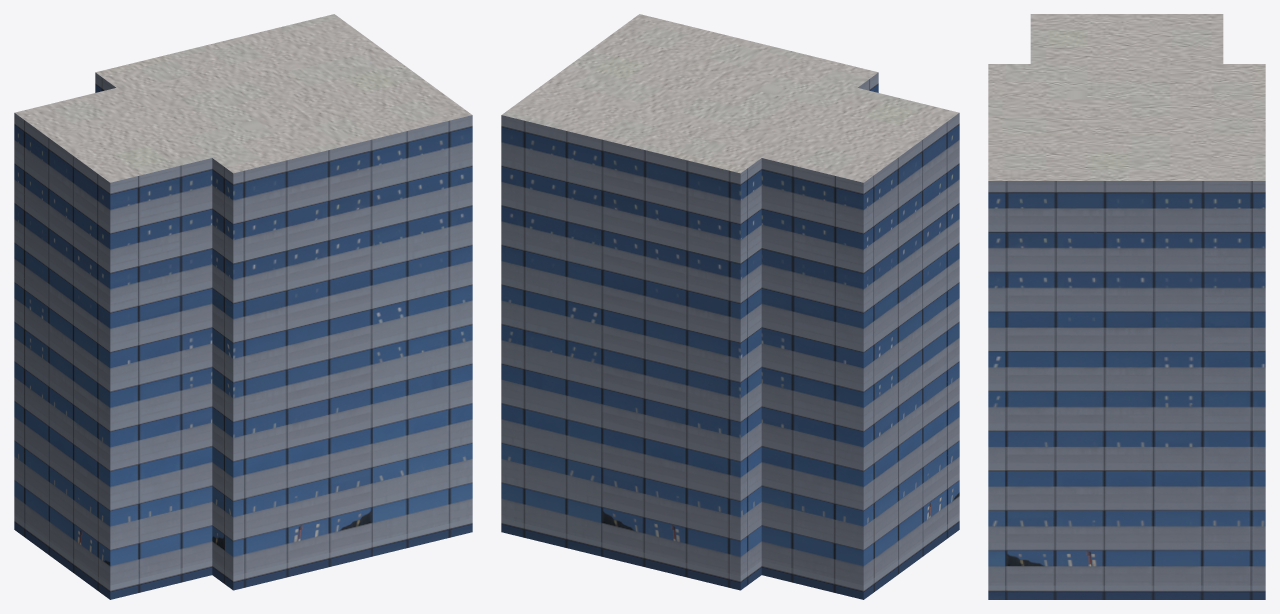
Rendered from building_057.fbx.
3 views of the same model, side by side, from view 1: azimuth 30°, elevation 25°; view 2: azimuth 150°, elevation 25°; view 3: azimuth 270°, elevation 25° (orthographic).
Visible parts, largest first — view 1: building_057; view 2: building_057; view 3: building_057.
Boxes of the visible parts, x1,y1,x2,y2 form: building_057: [14, 14, 472, 599]; building_057: [501, 14, 959, 599]; building_057: [988, 14, 1265, 599].
Bounding box in the file's own units: 1712 × 2000 × 1200.
